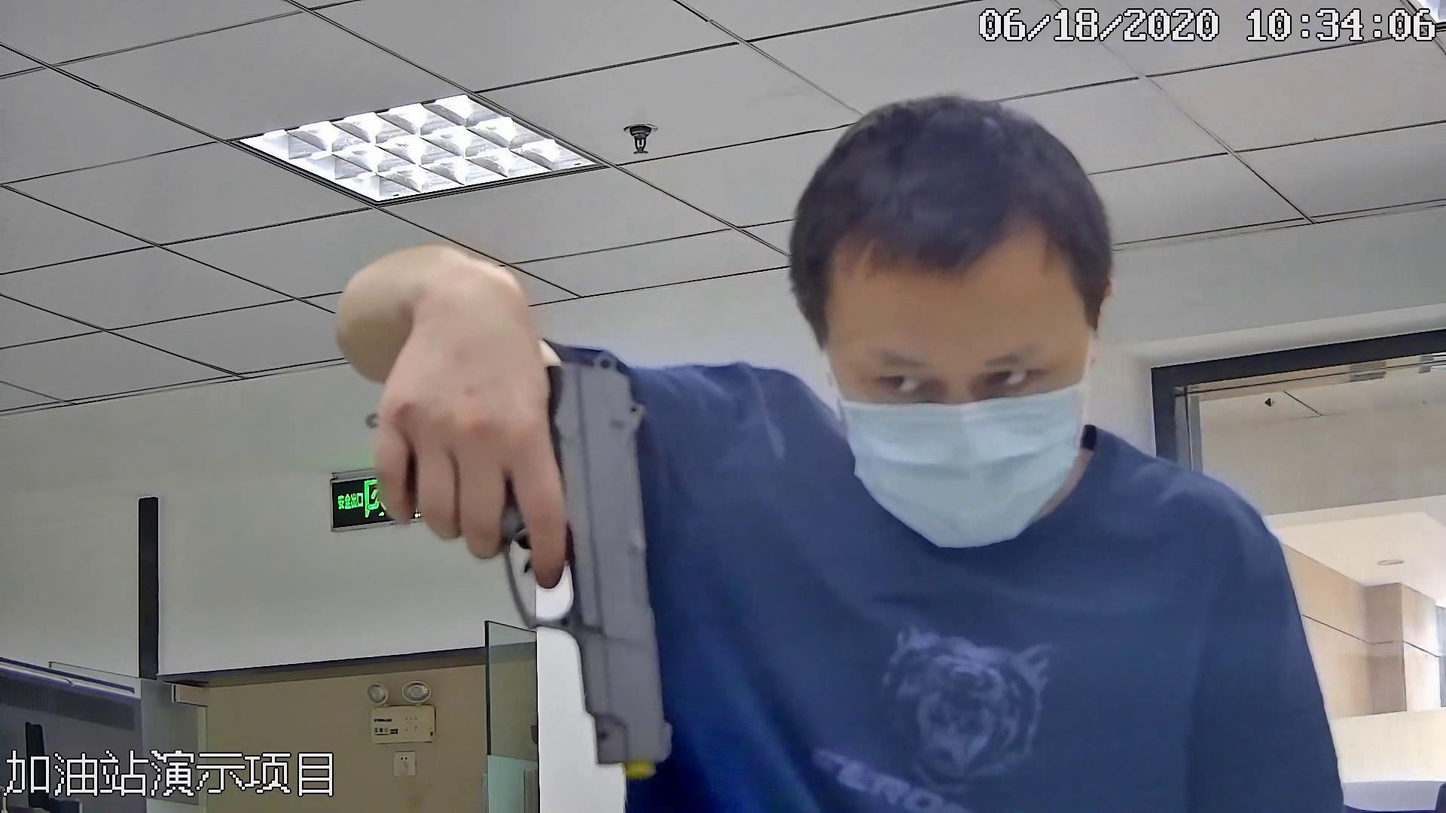gun: (374, 350, 671, 787)
